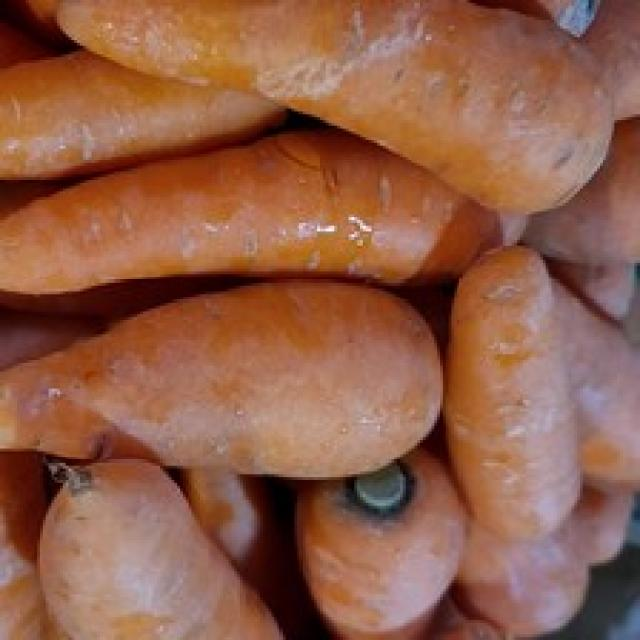carrot: (50, 0, 610, 220), (30, 280, 439, 480), (438, 231, 582, 546), (302, 453, 466, 640)
